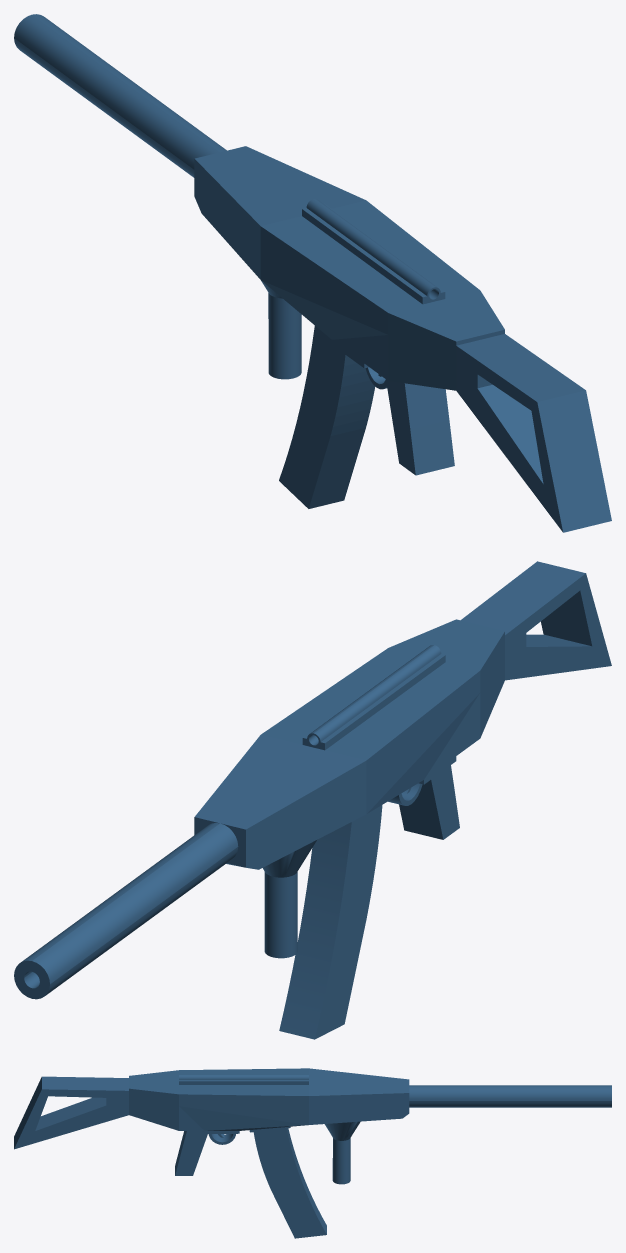
3 renders of one model, top to bottom at view 1: azimuth 30°, elevation 25°; view 2: azimuth 150°, elevation 25°; view 3: azimuth 270°, elevation 25°, orthographic. The views are drawn at different scales.
Visible parts, largest first — view 1: mesh1_mesh1-geometry; view 2: mesh1_mesh1-geometry; view 3: mesh1_mesh1-geometry.
Boxes of the visible parts, <box> form: mesh1_mesh1-geometry: <box>14,14,611,532</box>; mesh1_mesh1-geometry: <box>14,561,611,1039</box>; mesh1_mesh1-geometry: <box>14,1068,611,1238</box>.
Size of the model in its own units: 0.1049 by 0.2806 by 0.9541.
